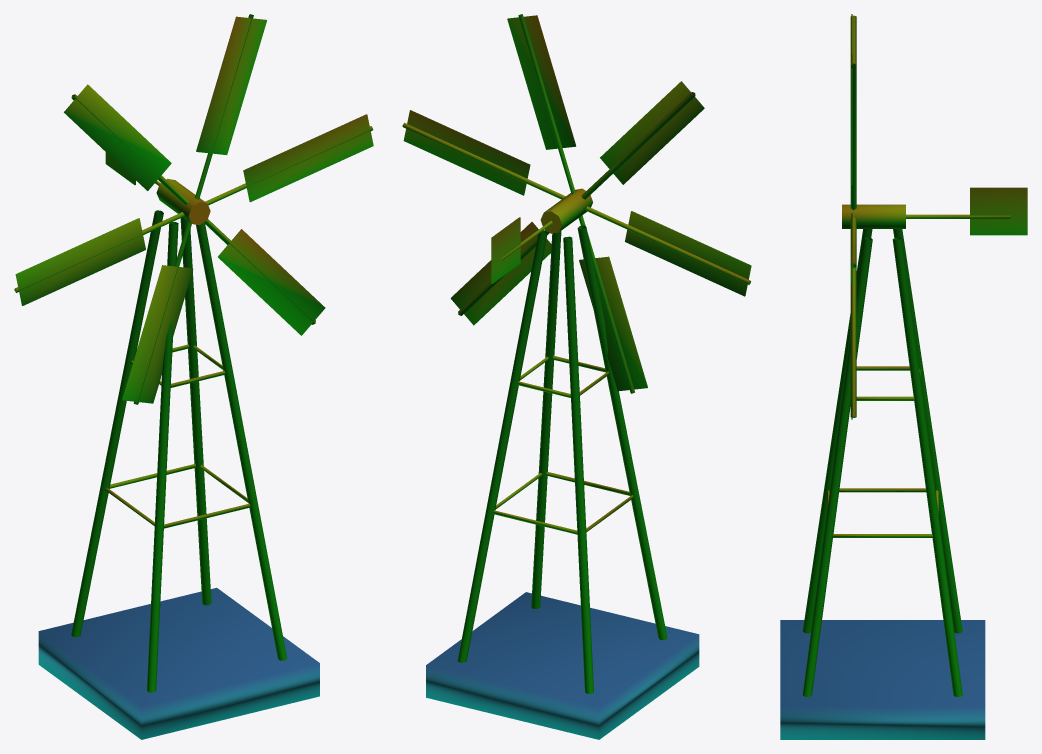
File: hm_windmill.glb
3 views of the same model, side by side, from view 1: azimuth 30°, elevation 25°; view 2: azimuth 150°, elevation 25°; view 3: azimuth 270°, elevation 25° (orthographic). The views are drawn at different scales.
Visible parts, largest first — view 1: hm_windmill; view 2: hm_windmill; view 3: hm_windmill.
Part boxes in pixels (x1,y1,x2,y2): hm_windmill: (14,14,373,739); hm_windmill: (402,14,751,739); hm_windmill: (780,14,1027,739).
Size of what is drawn, in the model's own units: 7.08 by 12.58 by 4.26.
